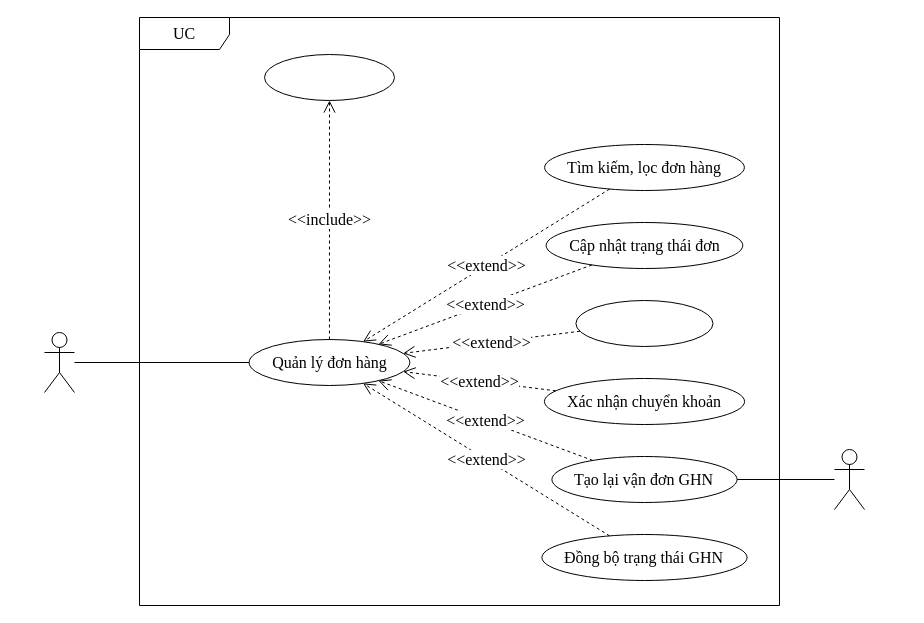
This 924x623 diagram has some shape labels left out. The shapes that lost their labels are listed below. From the top down, each one's centre as x and y in pixels, then its label:
At point (329, 77): "Đăng nhập".
At point (644, 323): "Hủy đơn hàng".
At point (59, 362): "Quản trị viên".
At point (849, 479): "Giao Hàng Nhanh".
